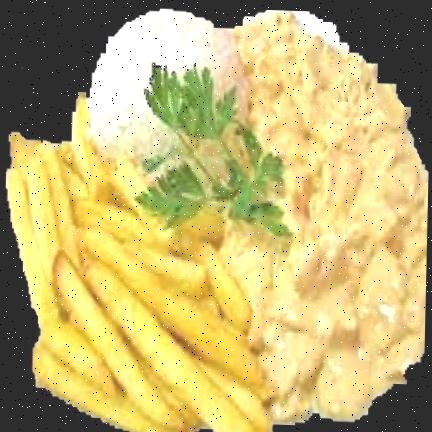chicken: (221, 14, 428, 420)
potato: (8, 98, 272, 432)
rice: (90, 9, 248, 162)
